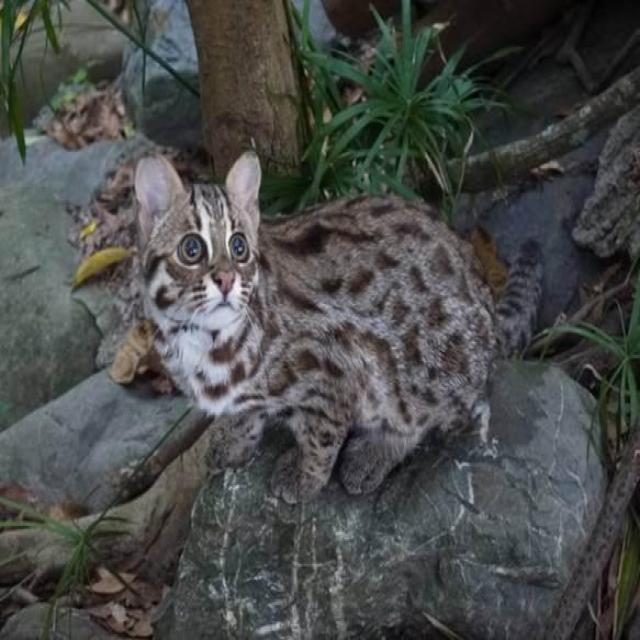leopard: (140, 152, 493, 455)
